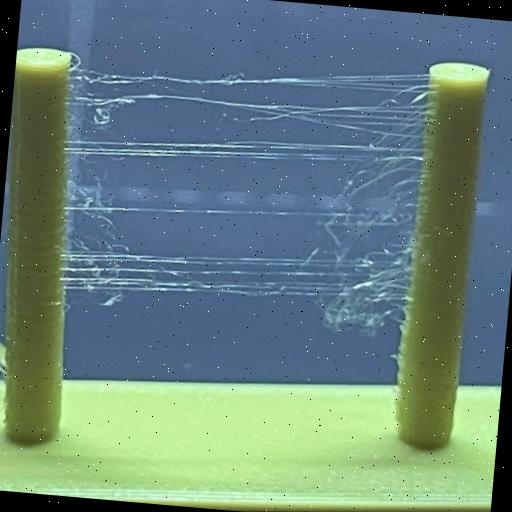stringing: (70, 46, 430, 192)
